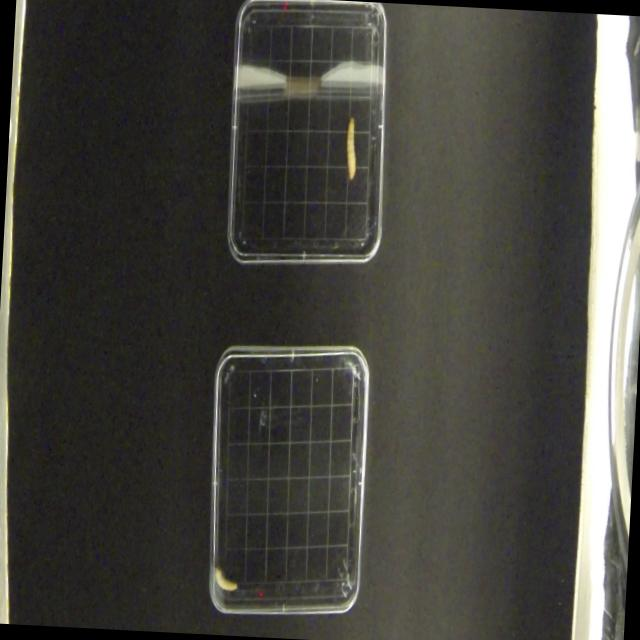larva: (338, 114, 363, 180), (213, 564, 241, 594)
